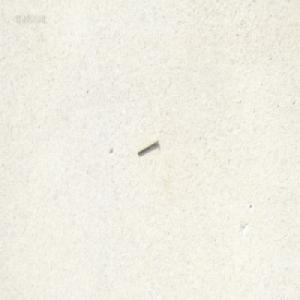Bolt: (137, 137, 159, 156)
